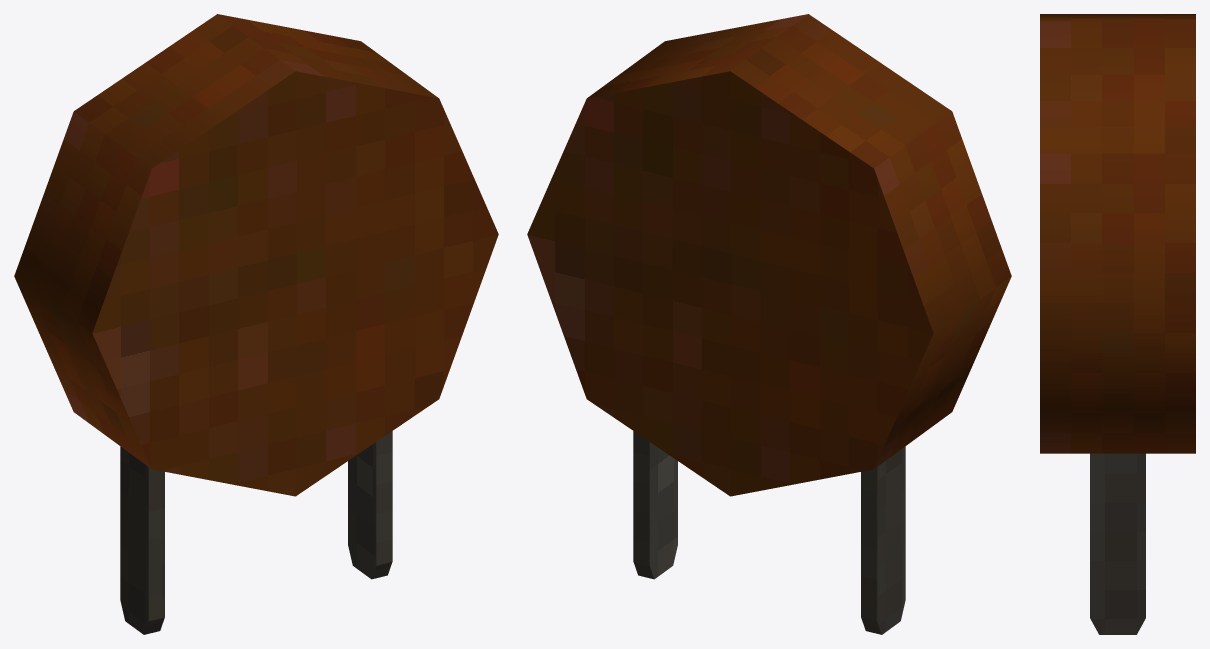
Rendered from capacitor_etx_4.glb.
The picture shows the model from 3 angles, left to right: view 1: azimuth 30°, elevation 25°; view 2: azimuth 150°, elevation 25°; view 3: azimuth 270°, elevation 25°; orthographic projection.
Visible parts, largest first — view 1: capacitor_etx_4; view 2: capacitor_etx_4; view 3: capacitor_etx_4.
Part boxes in pixels (bbox=[...]): capacitor_etx_4: bbox=[14, 14, 498, 634]; capacitor_etx_4: bbox=[527, 14, 1011, 634]; capacitor_etx_4: bbox=[1040, 14, 1195, 634].
Bounding box in the file's own units: 0.06 × 0.0784 × 0.02.
Materials: 1 (1 with a texture image).
